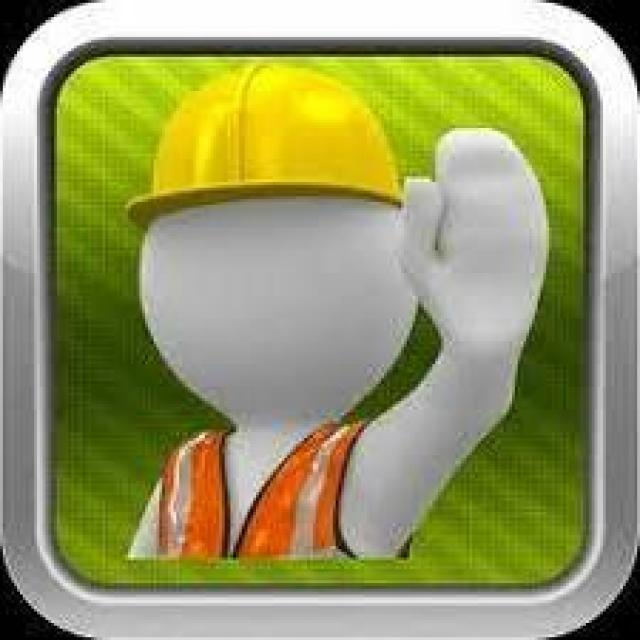Reflective-Jacket: (65, 0, 640, 640)
Safety-Helmet: (105, 54, 444, 230)
